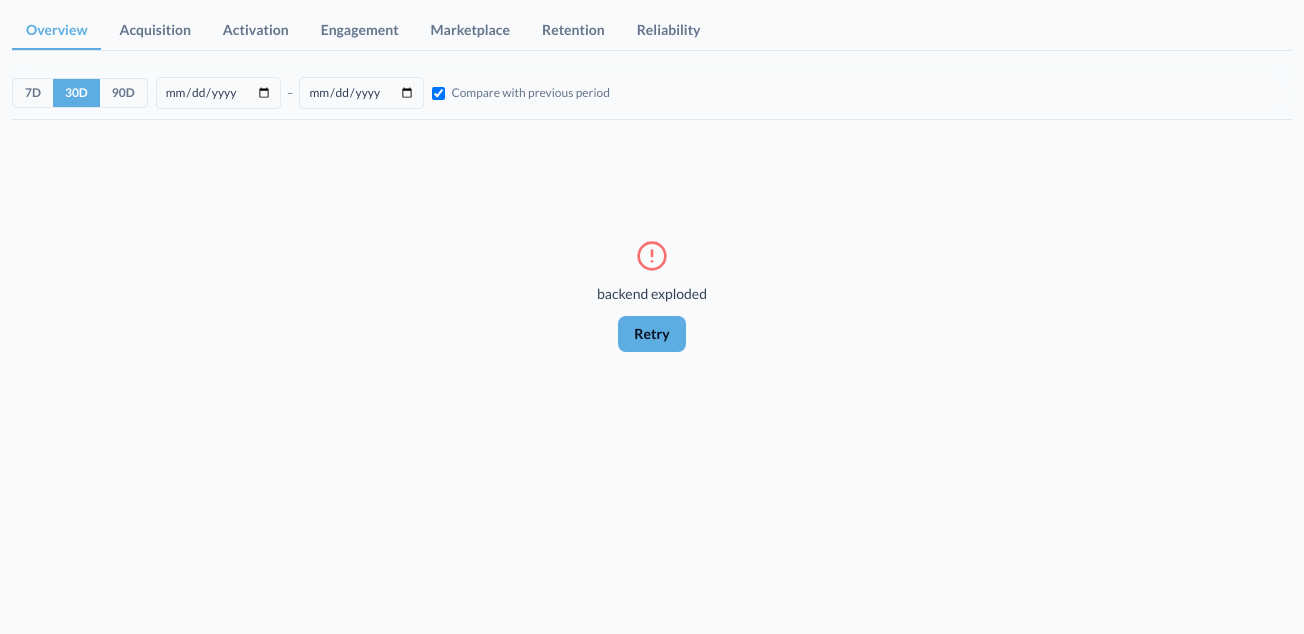
product analytics workspace shell › shows a scoped error state with retry when a tab fails
This screenshot has width=1304, height=634.
Expected: the message "backend exploded Retry" is shown, x1=597 y1=240 x2=707 y2=352
Expected: the text "backend exploded" is shown, x1=597 y1=284 x2=707 y2=304
Step 1. Click the button "Retry" → (652,334), box x1=618 y1=316 x2=686 y2=352
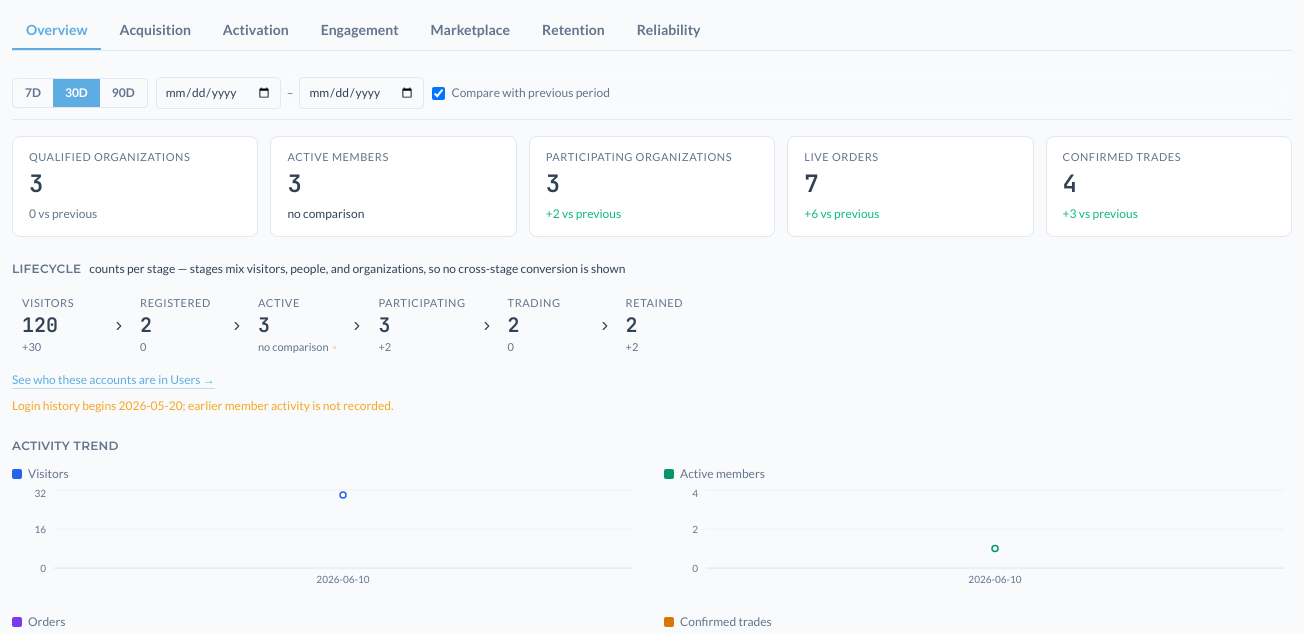
Now the list with test id "lifecycle-spine" is shown, box x1=12 y1=288 x2=712 y2=364
